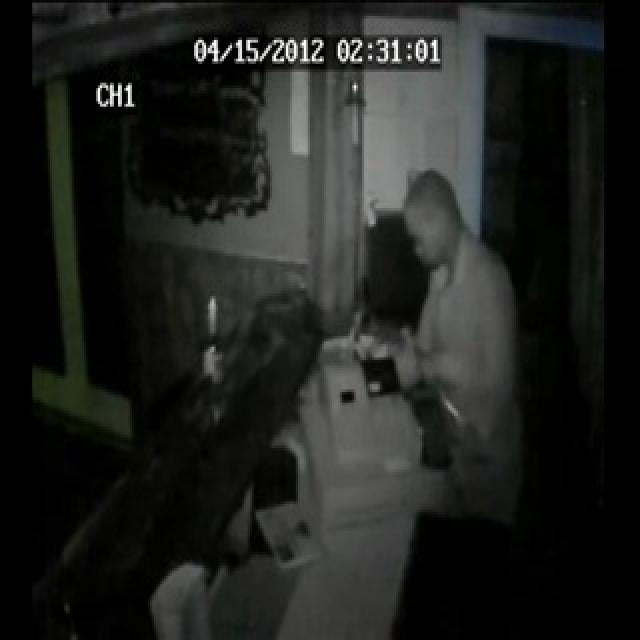thief: (388, 155, 481, 308)
